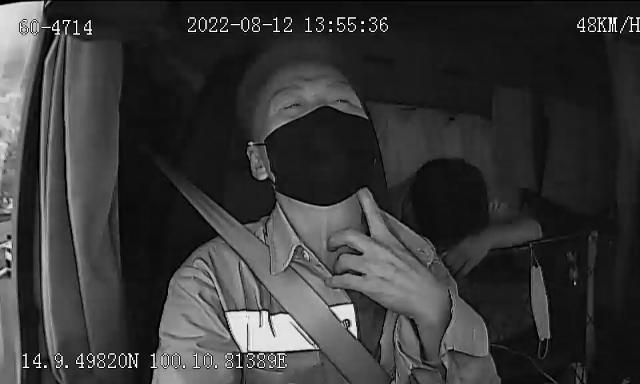Seatbelt: (170, 170, 390, 384)
